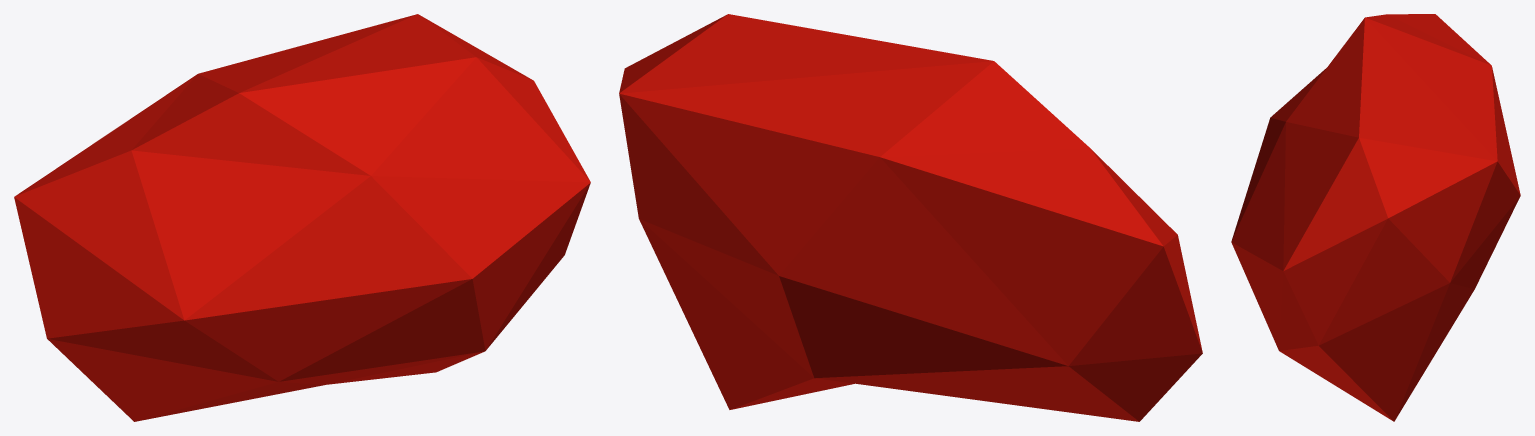
Rendered from p5-orange.obj.
3 views of the same model, side by side, from view 1: azimuth 30°, elevation 25°; view 2: azimuth 150°, elevation 25°; view 3: azimuth 270°, elevation 25° (orthographic). The views are drawn at different scales.
Visible parts, largest first — view 1: p5-orange_Icosphere.036; view 2: p5-orange_Icosphere.036; view 3: p5-orange_Icosphere.036.
Boxes of the visible parts, x1=… form: p5-orange_Icosphere.036: x1=14, y1=14, x2=590, y2=421; p5-orange_Icosphere.036: x1=619, y1=14, x2=1202, y2=421; p5-orange_Icosphere.036: x1=1231, y1=14, x2=1520, y2=421.
Bounding box in the file's own units: 3.36 × 2.23 × 1.88.
